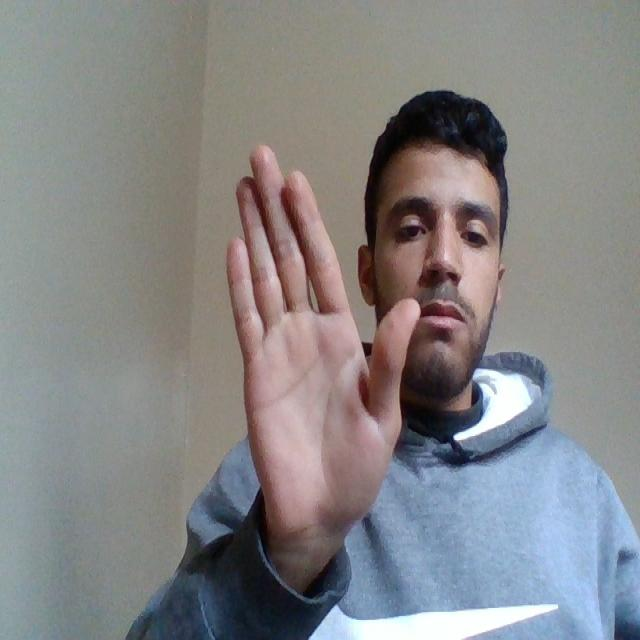Hello: (219, 142, 424, 570)
